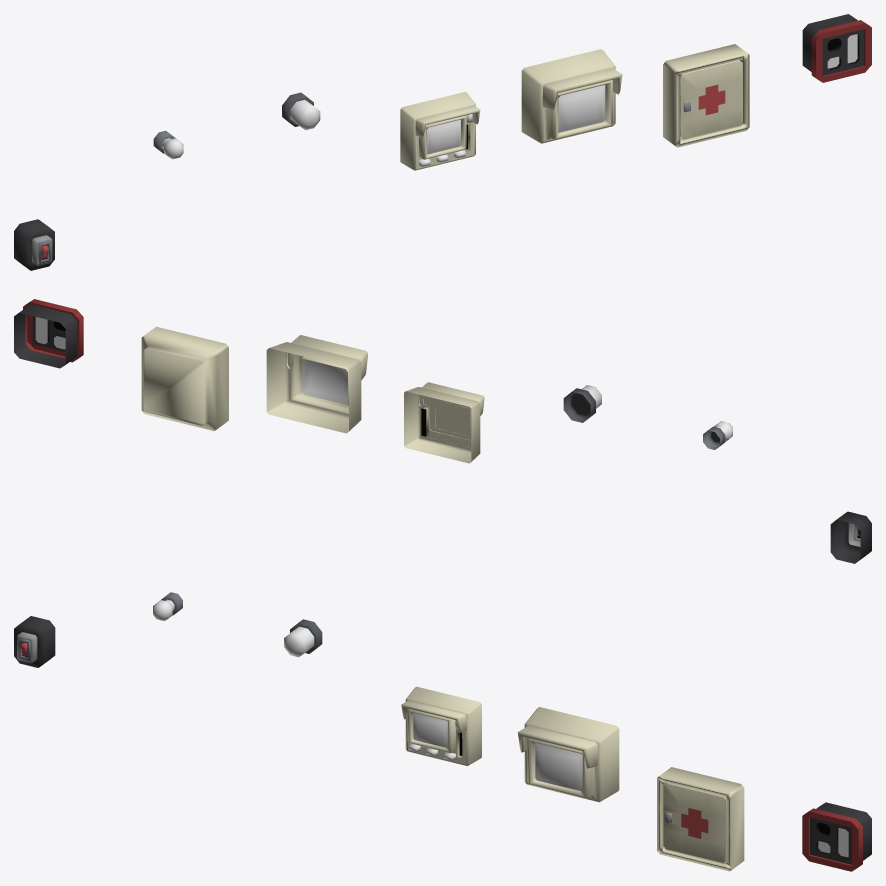
File: Wall Tech.fbx
3 renders of one model, top to bottom at view 1: azimuth 30°, elevation 25°; view 2: azimuth 150°, elevation 25°; view 3: azimuth 330°, elevation 25°, orthographic.
Visible parts, largest first — view 1: Console, APC, DefibrillatorWall.001, FireAlarm, DefibrillatorWall, Lightswitch, AlarmSiren; view 2: Console, DefibrillatorWall, APC, FireAlarm, Lightswitch, AlarmSiren; view 3: Console, APC, DefibrillatorWall.001, FireAlarm, DefibrillatorWall, Lightswitch, AlarmSiren.
Part boxes in pixels (bbox=[...]): Console: bbox=[521, 49, 622, 143]; APC: bbox=[400, 91, 480, 170]; DefibrillatorWall.001: bbox=[680, 60, 742, 139]; FireAlarm: bbox=[802, 14, 871, 82]; DefibrillatorWall: bbox=[663, 44, 749, 147]; Lightswitch: bbox=[14, 219, 54, 270]; AlarmSiren: bbox=[282, 92, 320, 130]; Console: bbox=[266, 335, 368, 433]; DefibrillatorWall: bbox=[141, 326, 228, 431]; APC: bbox=[404, 382, 484, 463]; FireAlarm: bbox=[14, 299, 83, 368]; Lightswitch: bbox=[830, 511, 871, 563]; AlarmSiren: bbox=[563, 385, 601, 422]; Console: bbox=[518, 707, 619, 802]; APC: bbox=[401, 686, 481, 766]; DefibrillatorWall.001: bbox=[663, 783, 726, 862]; FireAlarm: bbox=[802, 802, 871, 871]; DefibrillatorWall: bbox=[657, 767, 744, 871]; Lightswitch: bbox=[14, 616, 55, 667]; AlarmSiren: bbox=[284, 619, 322, 657].
Size of the model in its own units: 632 by 93.68 by 34.54.
